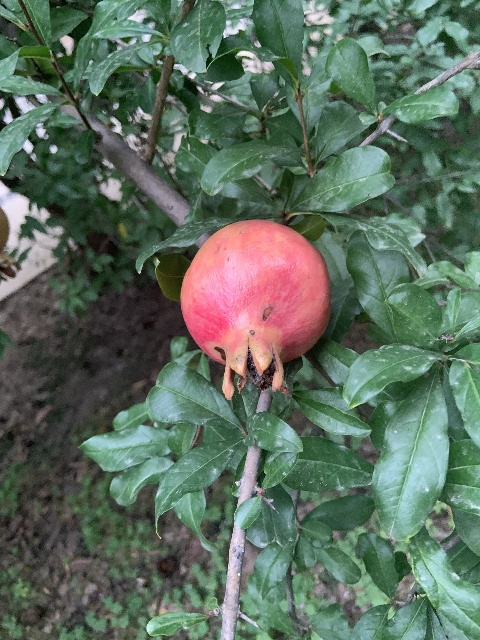ripe: (179, 219, 331, 400)
